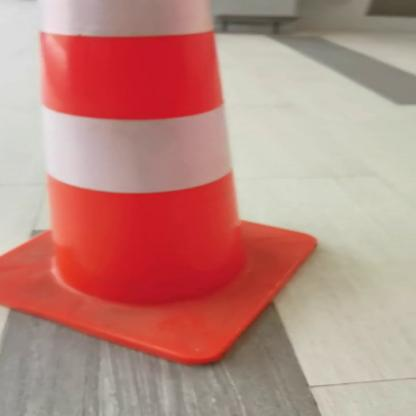cone: (0, 0, 329, 377)
